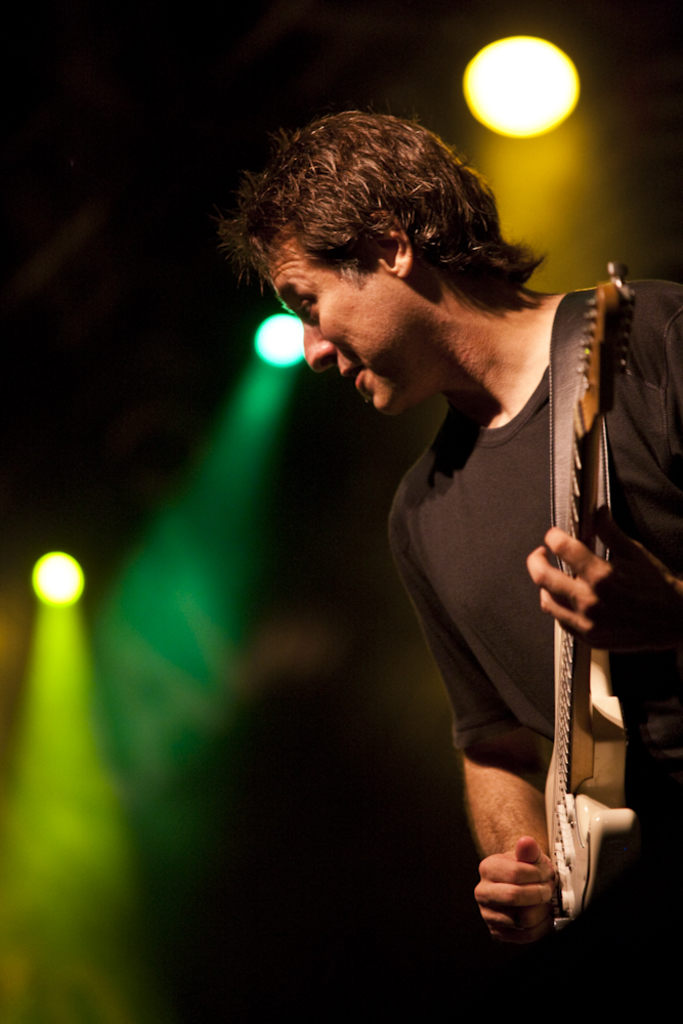guitar: (529, 260, 631, 725)
